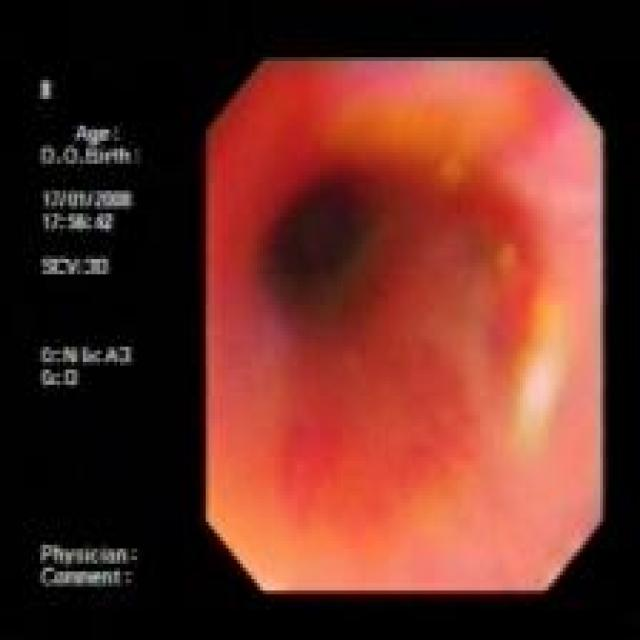blur: (206, 60, 602, 592)
color misalignment: (37, 79, 140, 596), (318, 58, 576, 201), (457, 236, 578, 469)
contrast: (268, 181, 366, 303)
